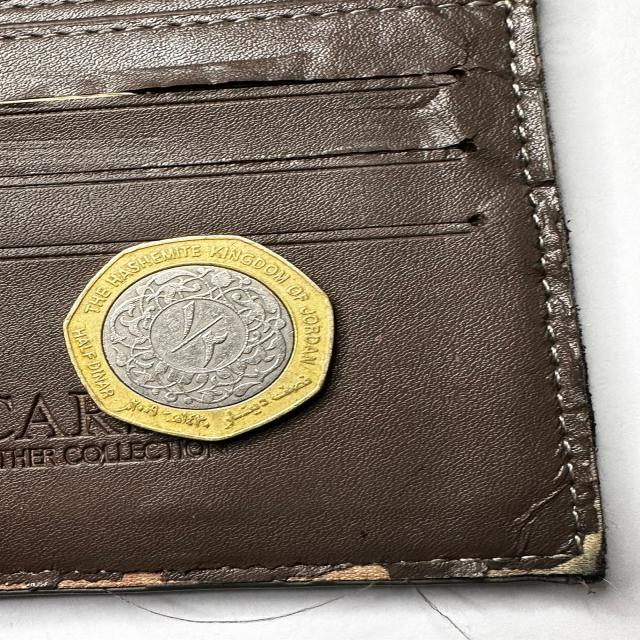50-coins: (62, 234, 338, 442)
